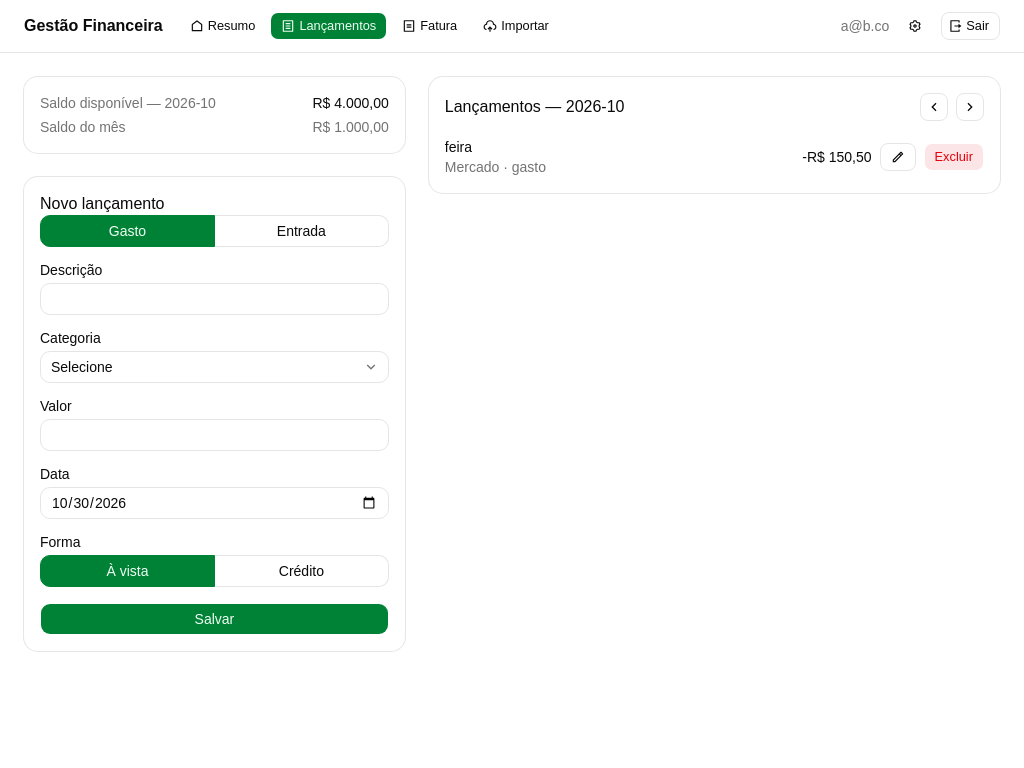
Test case: EntryScreen › a edição › depois de salvar volta a ser o formulário de lançamento novo
Click the button named "Editar feira" at (898, 157), box [880, 143, 916, 171]
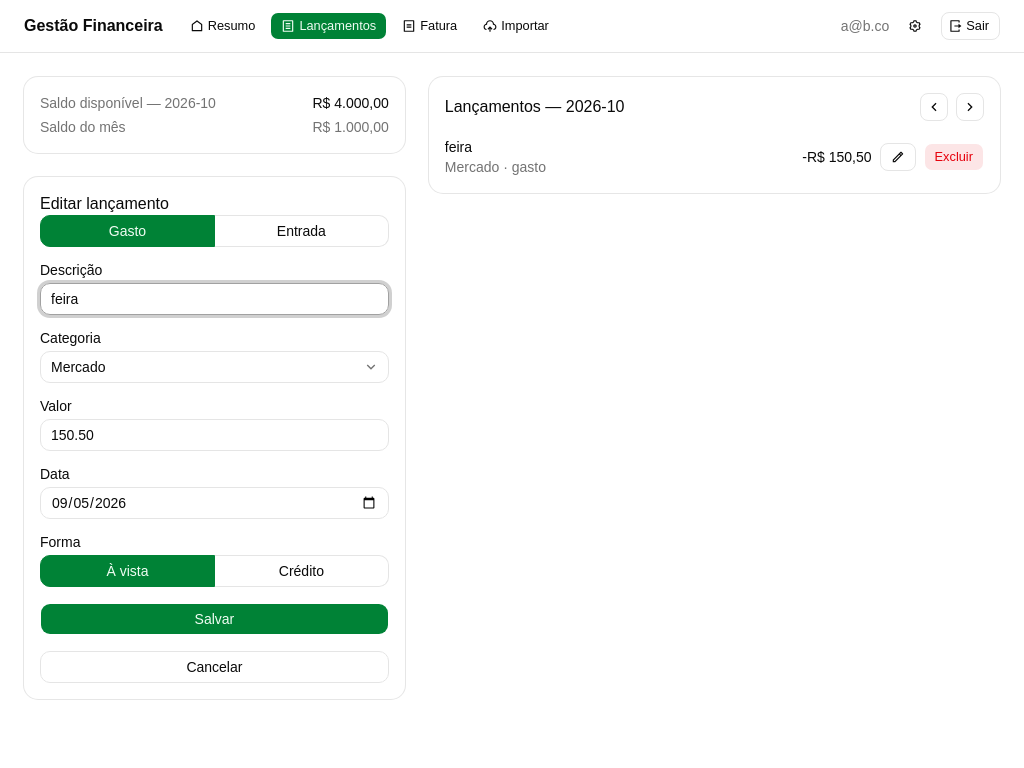
Click the button "Salvar" at (214, 619), box [40, 603, 389, 635]
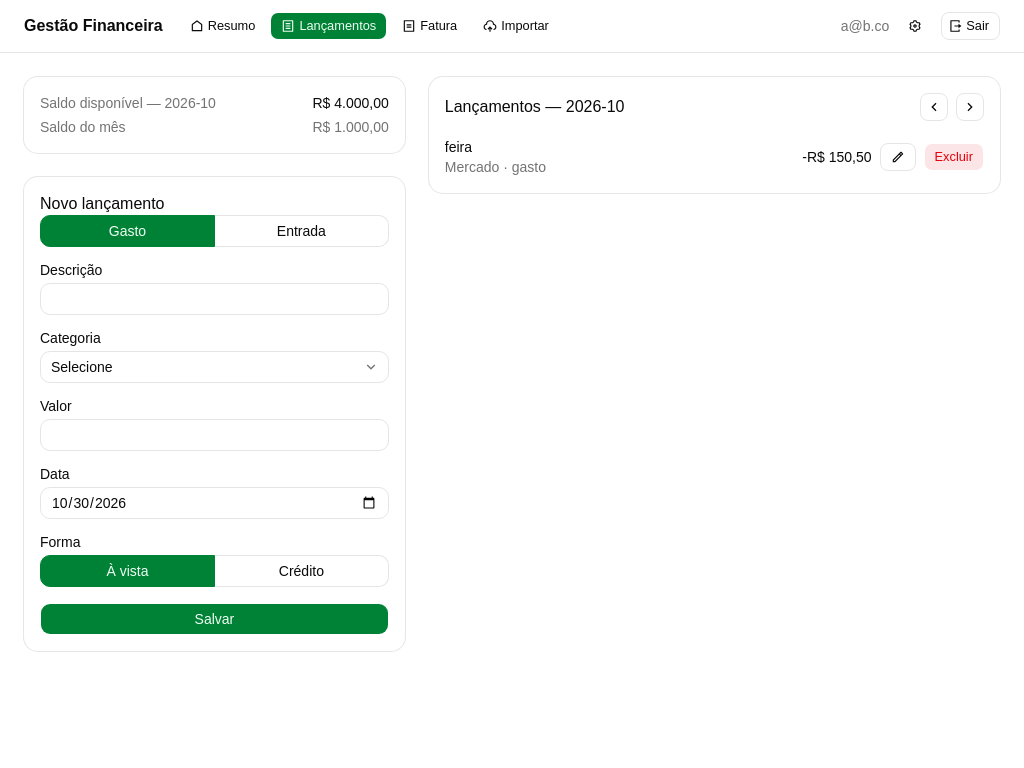
Result: the text "Novo lançamento" is shown at [40, 195, 164, 212]
Result: the field labelled "Descrição" is empty at [40, 283, 389, 315]
Result: the button "Cancelar" is gone
